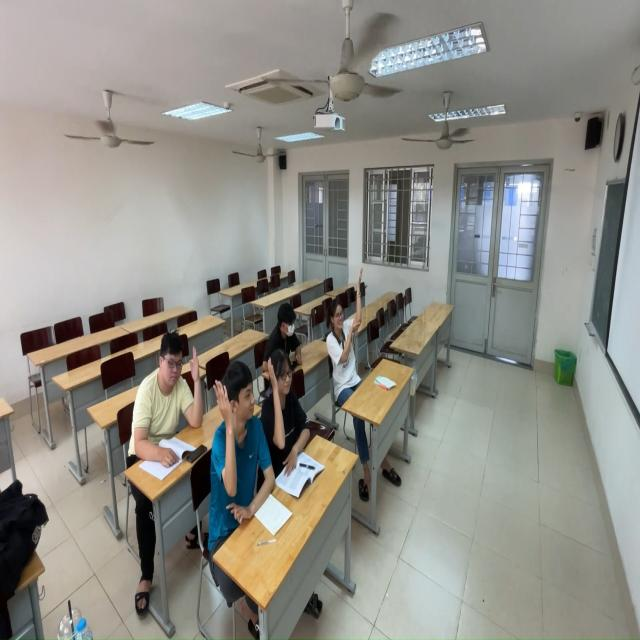raise_hand: (200, 358, 280, 540), (131, 306, 202, 463), (262, 326, 314, 489), (328, 265, 372, 404)
read: (265, 302, 306, 368)
